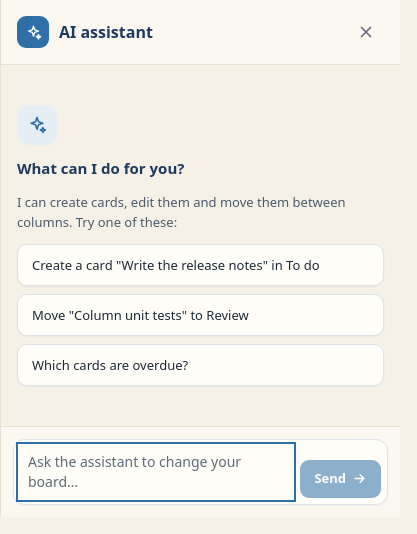
Test: when the conversation is empty › sends an example when it is clicked
Click the button with test id "ai-example": (200, 314) left=17, top=294, right=384, bottom=336
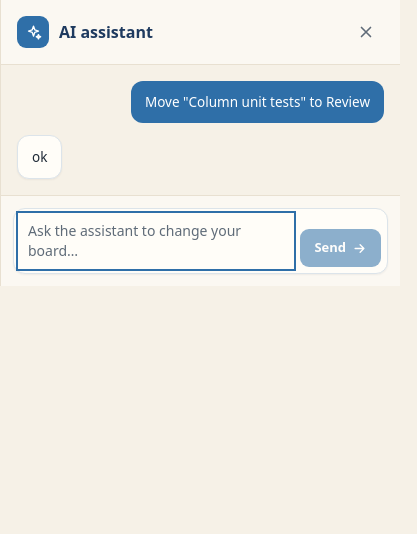
Expected: the element with test id "ai-answer" is shown, left=17, top=135, right=62, bottom=179
Expected: the element with test id "ai-guide" is gone
